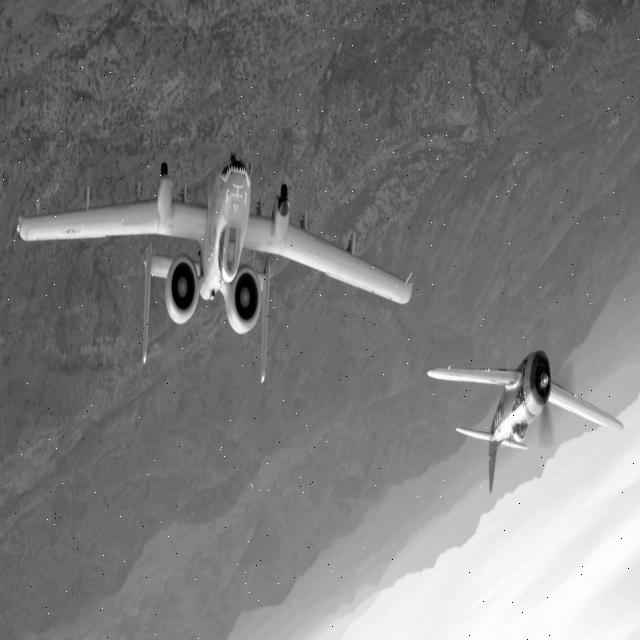A10: (0, 126, 419, 410), (423, 309, 633, 545)
